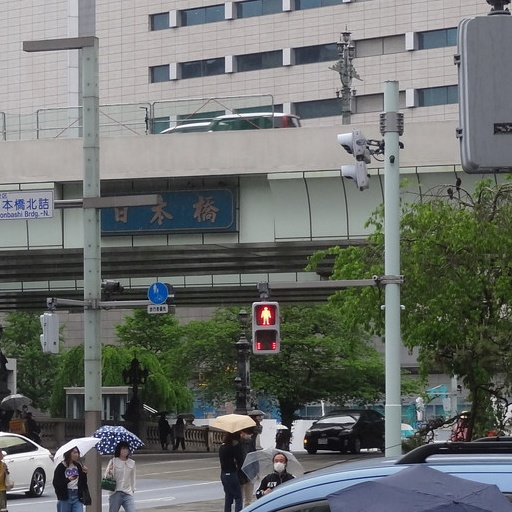Pedestrian_Signal_Red: (244, 289, 285, 362)
